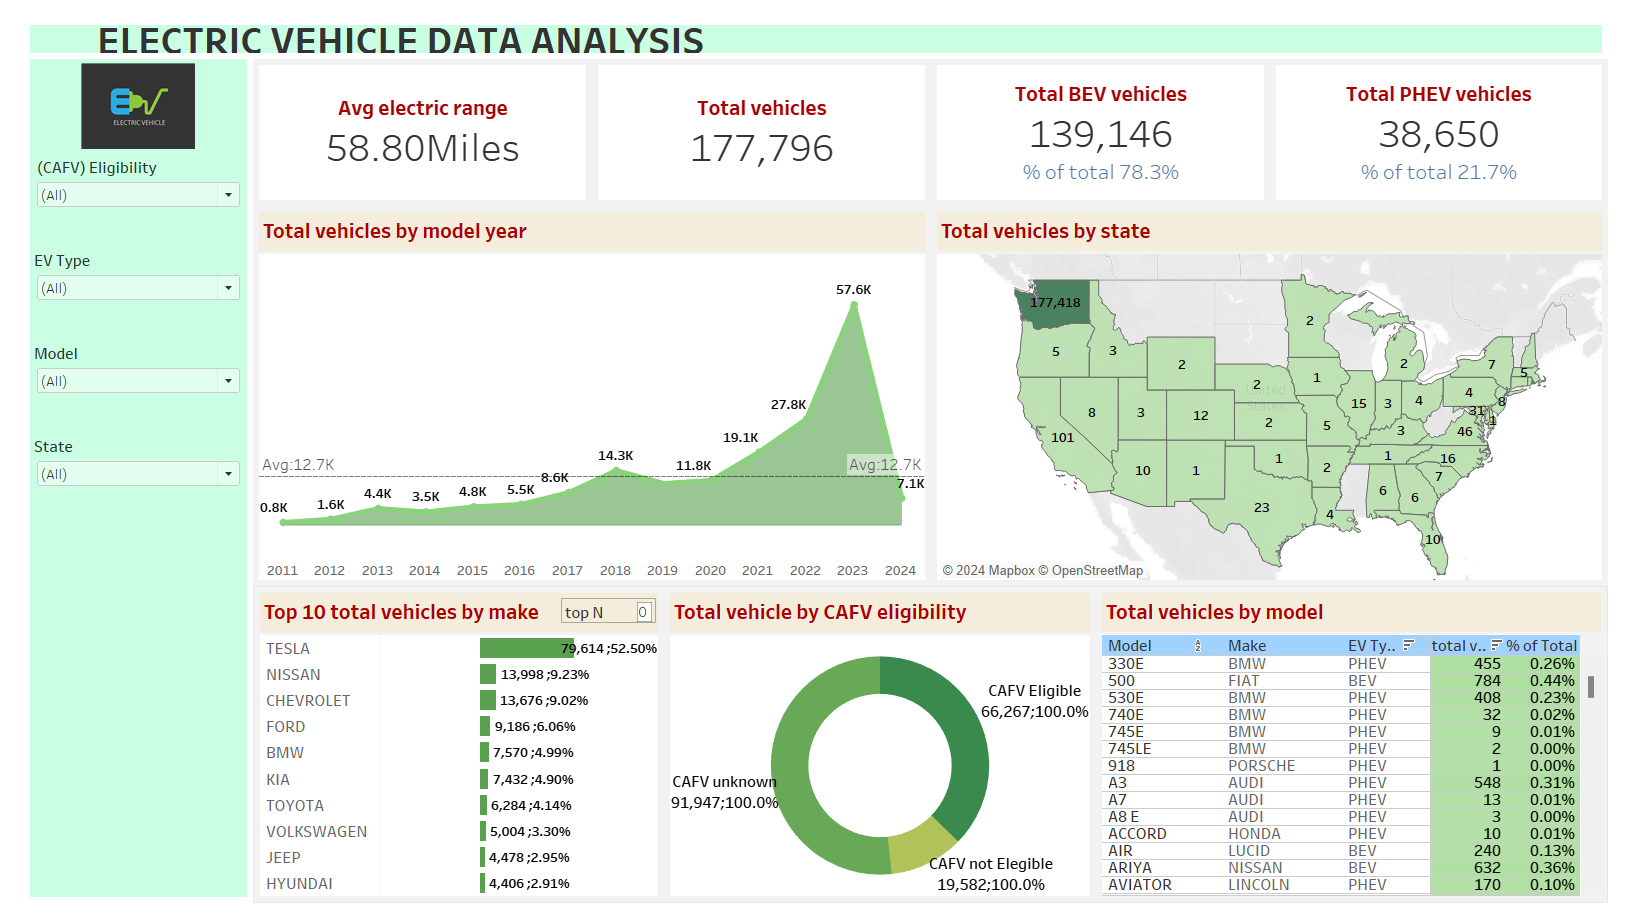

The page's visual inventory and layout, read from the dashboard file:
{"tool":"tableau","page":{"name":"Dashboard 1","canvas":[1600,900],"ordinal":0},"visuals":[{"type":"title","box":[8,8,1584,40]},{"type":"image","param":"C:/Users/lenovaaa/Downloads/thanuphoto.jpg","box":[14,48,217,94]},{"type":"worksheet","title":"Avg electric range","mark":"Automatic","box":[237,48,339,147]},{"type":"worksheet","title":"Total vehicles","mark":"Automatic","box":[576,48,339,147]},{"type":"worksheet","title":"Total BEV vehicles","mark":"Automatic","box":[915,48,339,147]},{"type":"worksheet","title":"Total PHEV vehicles","mark":"Automatic","box":[1254,48,338,147]},{"type":"filter","title":"Total vehicles by model year","param":"[federated.13w12k90yz7phc1d5j0pj1bkmfng].[none:Clean Alternative Fuel Vehicle (C","box":[14,142,217,93]},{"type":"worksheet","title":"Total vehicles by model year","mark":"Area","rows":["Calculation_244320310635896834","Calculation_244320310635896834"],"cols":["Model Year"],"box":[237,195,678,380]},{"type":"worksheet","title":"Total vehicles by state","mark":"Multipolygon","box":[915,195,677,380]},{"type":"filter","title":"Total vehicles by model year","param":"[federated.13w12k90yz7phc1d5j0pj1bkmfng].[none:Electric Vehicle Type:nk]","box":[14,235,217,93]},{"type":"filter","title":"Total vehicles by model year","param":"[federated.13w12k90yz7phc1d5j0pj1bkmfng].[none:Model:nk]","box":[14,328,217,93]},{"type":"filter","title":"Total vehicles by model year","param":"[federated.13w12k90yz7phc1d5j0pj1bkmfng].[none:State:nk]","box":[14,421,217,93]},{"type":"blank","box":[14,514,217,93]},{"type":"worksheet","title":"Top 10 total vehicles by make","mark":"Automatic","rows":["Make"],"cols":["Calculation_244320310635896834"],"box":[238,576,410,315]},{"type":"worksheet","title":"Total vehicle by CAFV eligibility","mark":"Pie","rows":["Calculation_244320310670778379","Calculation_244320310670778379"],"box":[648,576,432,315]},{"type":"worksheet","title":"Total vehicles by model","mark":"Square","rows":["Model","Make","Electric Vehicle Type"],"box":[1080,576,511,315]},{"type":"parameter","param":"[Parameters].[Parameter 1]","box":[545,587,95,25]},{"type":"blank","box":[14,607,217,93]},{"type":"blank","box":[14,700,217,93]},{"type":"blank","box":[14,793,217,93]}]}

Visuals, with their boxes in screenshot pixels (x1, y1, x2, y2), scaled from the page's 1600x900 canvas onto the 1641x918 screenshot:
title: pyautogui.locateOnScreen(8, 8, 1633, 49)
image: pyautogui.locateOnScreen(14, 49, 237, 145)
"Avg electric range" worksheet: pyautogui.locateOnScreen(243, 49, 591, 199)
"Total vehicles" worksheet: pyautogui.locateOnScreen(591, 49, 938, 199)
"Total BEV vehicles" worksheet: pyautogui.locateOnScreen(938, 49, 1286, 199)
"Total PHEV vehicles" worksheet: pyautogui.locateOnScreen(1286, 49, 1633, 199)
"Total vehicles by model year" filter: pyautogui.locateOnScreen(14, 145, 237, 240)
"Total vehicles by model year" worksheet (Area marks): pyautogui.locateOnScreen(243, 199, 938, 586)
"Total vehicles by state" worksheet (Multipolygon marks): pyautogui.locateOnScreen(938, 199, 1633, 586)
"Total vehicles by model year" filter: pyautogui.locateOnScreen(14, 240, 237, 335)
"Total vehicles by model year" filter: pyautogui.locateOnScreen(14, 335, 237, 429)
"Total vehicles by model year" filter: pyautogui.locateOnScreen(14, 429, 237, 524)
blank: pyautogui.locateOnScreen(14, 524, 237, 619)
"Top 10 total vehicles by make" worksheet: pyautogui.locateOnScreen(244, 588, 665, 909)
"Total vehicle by CAFV eligibility" worksheet (Pie marks): pyautogui.locateOnScreen(665, 588, 1108, 909)
"Total vehicles by model" worksheet (Square marks): pyautogui.locateOnScreen(1108, 588, 1632, 909)
parameter: pyautogui.locateOnScreen(559, 599, 656, 624)
blank: pyautogui.locateOnScreen(14, 619, 237, 714)
blank: pyautogui.locateOnScreen(14, 714, 237, 809)
blank: pyautogui.locateOnScreen(14, 809, 237, 904)
